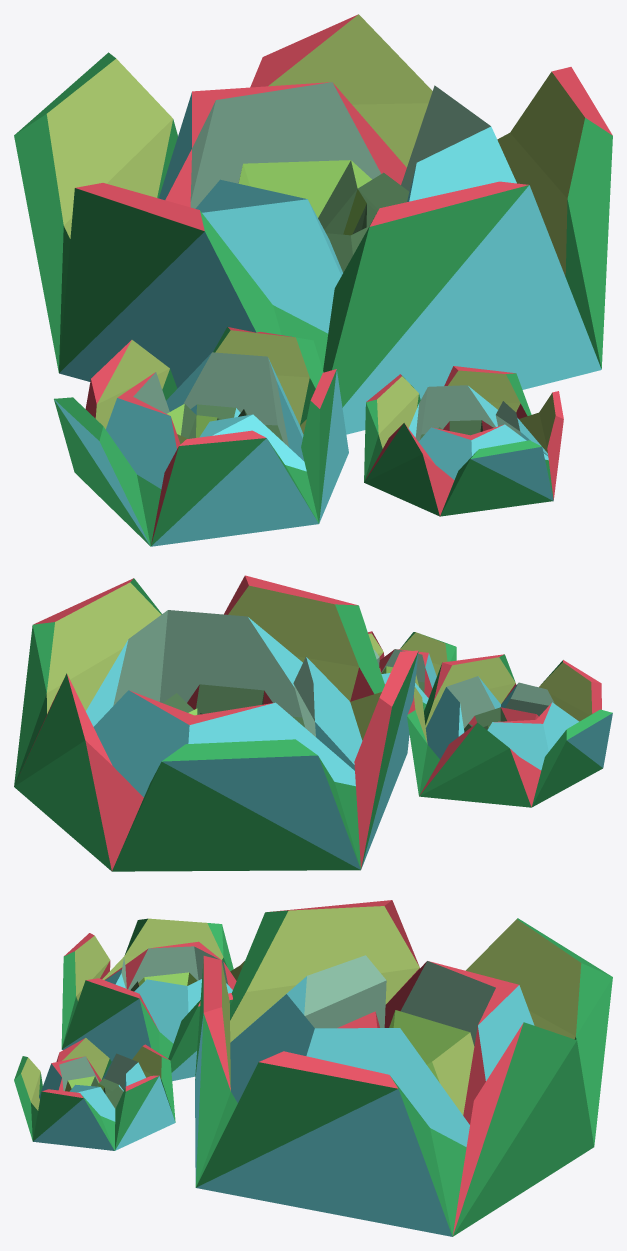
File: Garden_SucculentBunch01.fbx
3 renders of one model, top to bottom at view 1: azimuth 30°, elevation 25°; view 2: azimuth 150°, elevation 25°; view 3: azimuth 270°, elevation 25°, orthographic. The views are drawn at different scales.
Parts seen in each view (by area): view 1: Cylinder.123; view 2: Cylinder.123; view 3: Cylinder.123.
Boxes of the visible parts, box(x1,y1,x2,y2) form: Cylinder.123: box(14, 14, 612, 546); Cylinder.123: box(14, 575, 612, 871); Cylinder.123: box(14, 900, 612, 1236).
Size of the model in its own units: 17.22 by 5.91 by 18.25.
